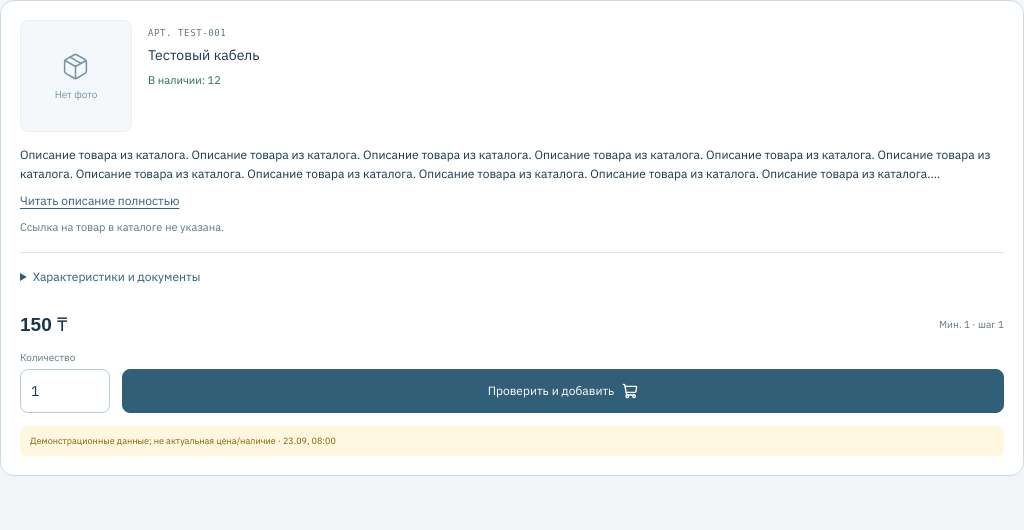
Scenario: product cards in the conversation › lets the reader expand a long description independently of specifications
Step 1. Click the button "Читать описание полностью" → coordinates (100, 201), box [20, 183, 179, 219]
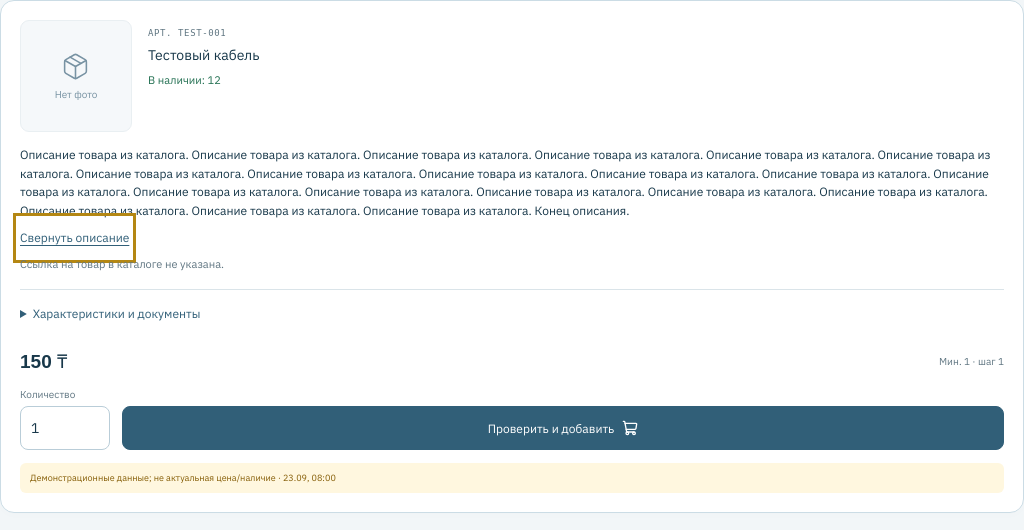
Check: the text "Конец описания" is shown, box [20, 147, 993, 218]
Check: the button "Свернуть описание" is expanded, box [20, 220, 129, 256]
